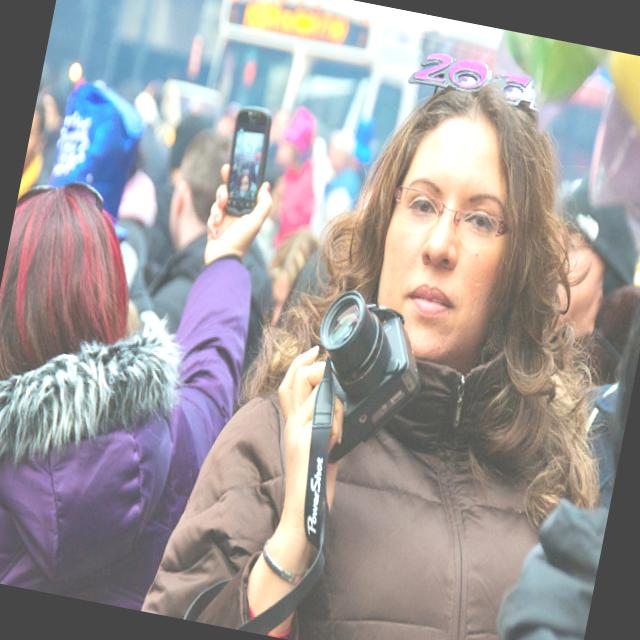Vehicle: (196, 0, 625, 209)
